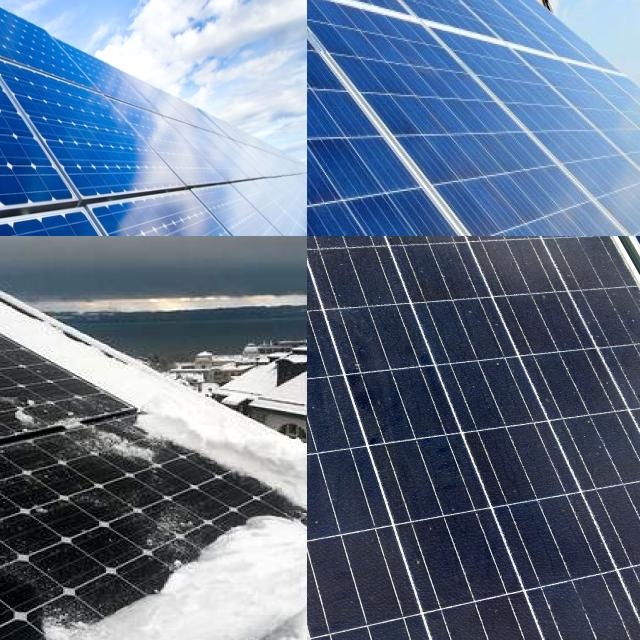crack: (307, 0, 640, 236), (0, 0, 193, 236), (0, 43, 199, 225)
dust: (434, 328, 636, 506), (329, 236, 549, 338), (307, 466, 428, 617), (307, 316, 401, 456), (516, 552, 640, 640), (307, 236, 407, 323)
panel: (104, 548, 307, 640), (8, 378, 154, 481), (0, 361, 71, 506), (168, 386, 278, 466), (207, 461, 307, 543), (0, 279, 49, 330)
